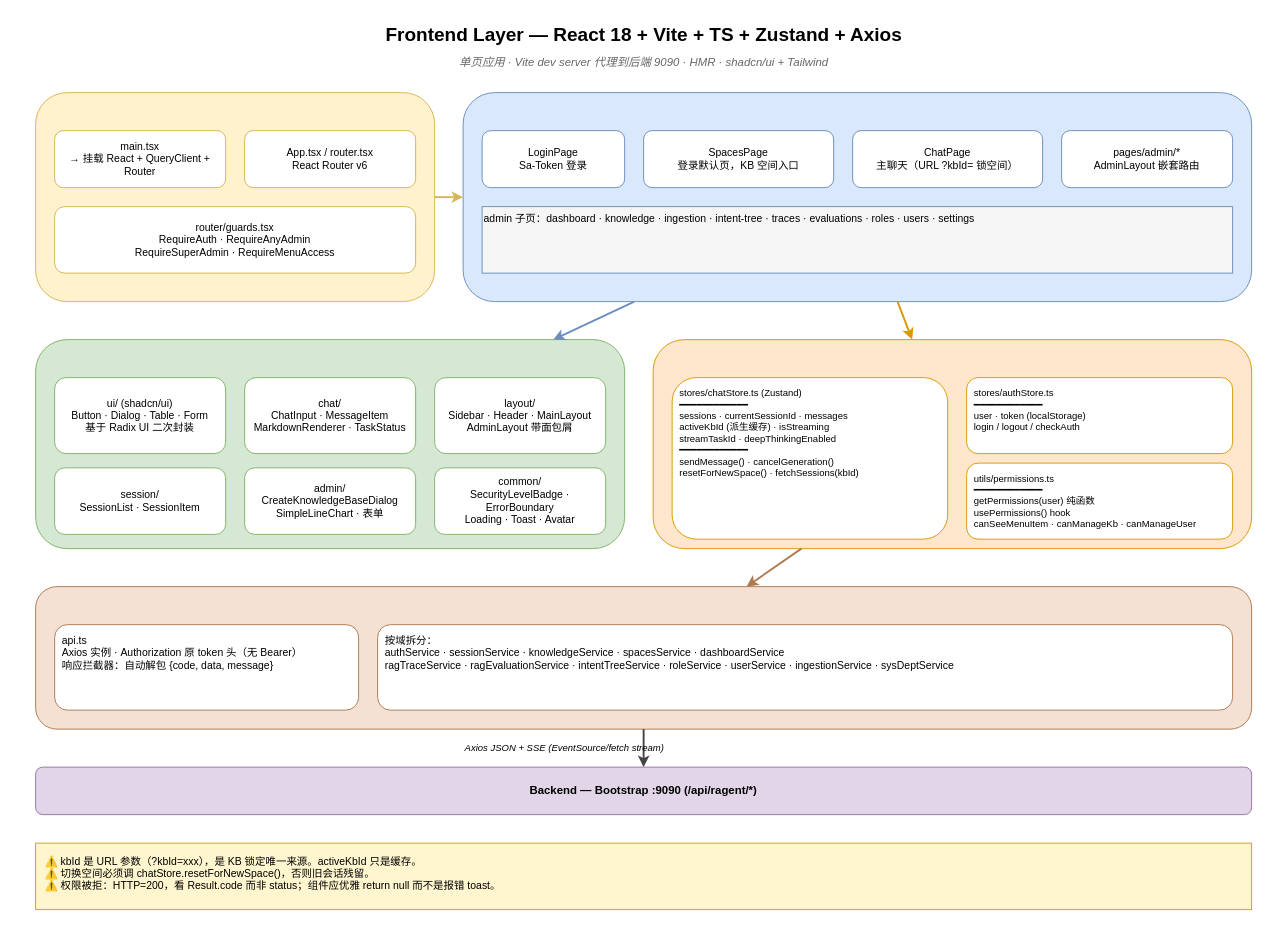
This 1286x926 diagram has some shape labels left out. The box of each missing label's shape, as (x1, y1, x2, y2) in pixels:
Components（可复用 UI）: (35, 339, 625, 549)
Pages（页面组件）: (462, 92, 1252, 302)
Services（Axios HTTP 层）: (35, 586, 1252, 729)
State + Hooks + Permissions: (652, 339, 1252, 549)
入口 + 路由: (35, 92, 435, 302)
